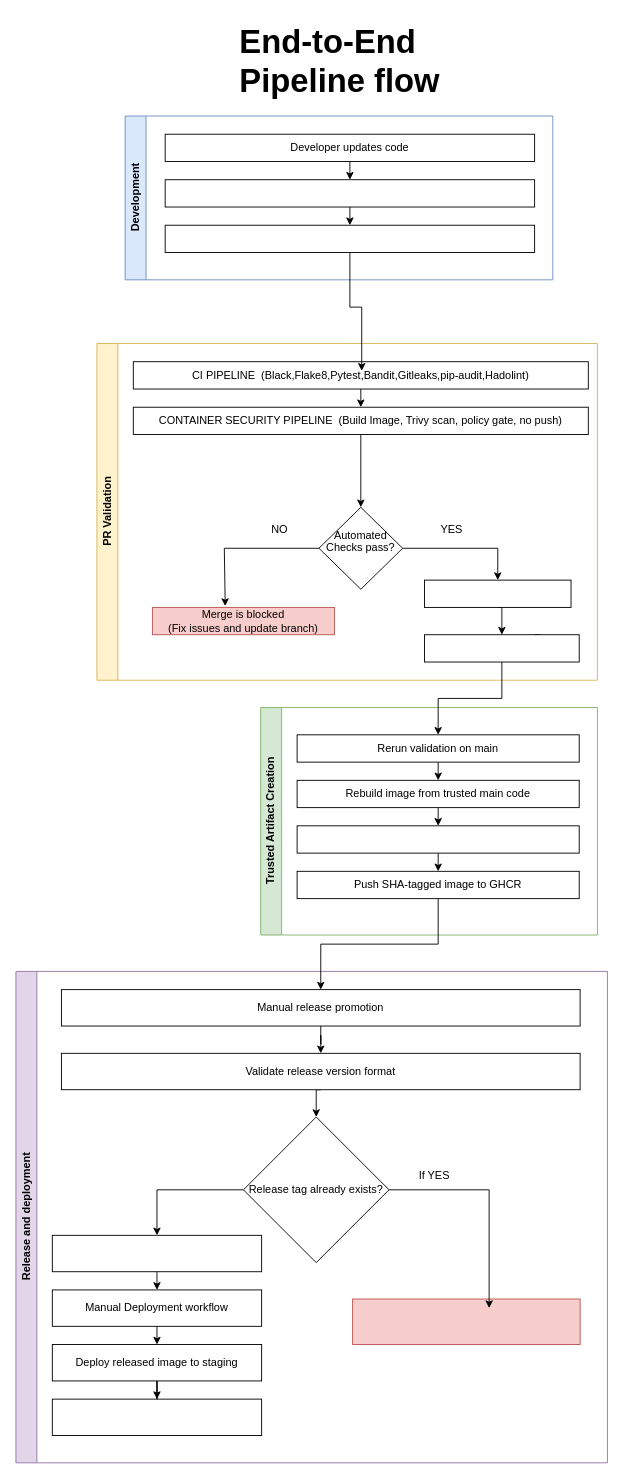
Image size: 623x1479. Some labels were removed from this diagram. Each missing label, with the centre of its shape:
"Create immutable version tag from tested SHA image" belongs at point (156, 1253).
"Fail release workflow (Immutable tag policy)" belongs at point (466, 1321).
"Merge into main" belongs at point (501, 648).
"Open PULL REQUEST against main" belongs at point (349, 238).
"PR Approved" belongs at point (497, 593).
"Push to feature branch" belongs at point (349, 193).
"Rerun container security validation" belongs at point (437, 839).
"Validate Deployment" belongs at point (156, 1417).
